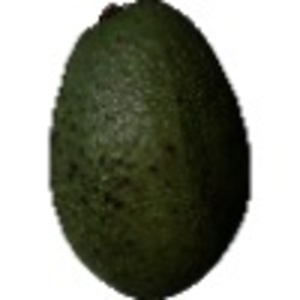abacate: (47, 1, 251, 295)
